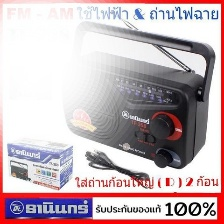book: (4, 133, 77, 193)
